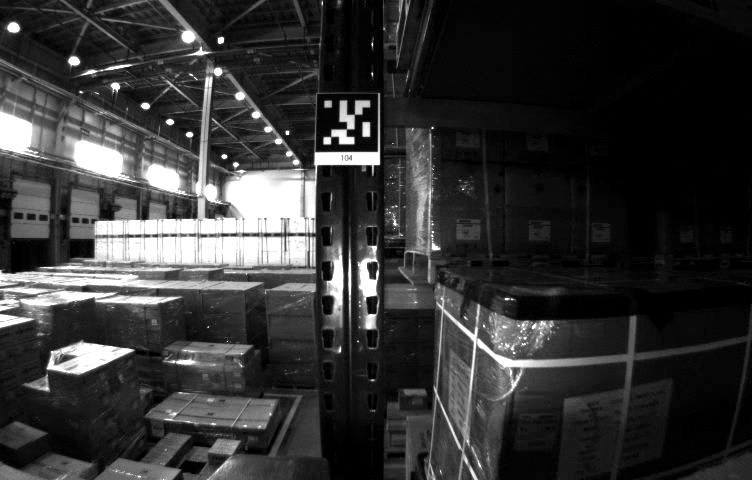True Barcode: (518, 410, 557, 450)
